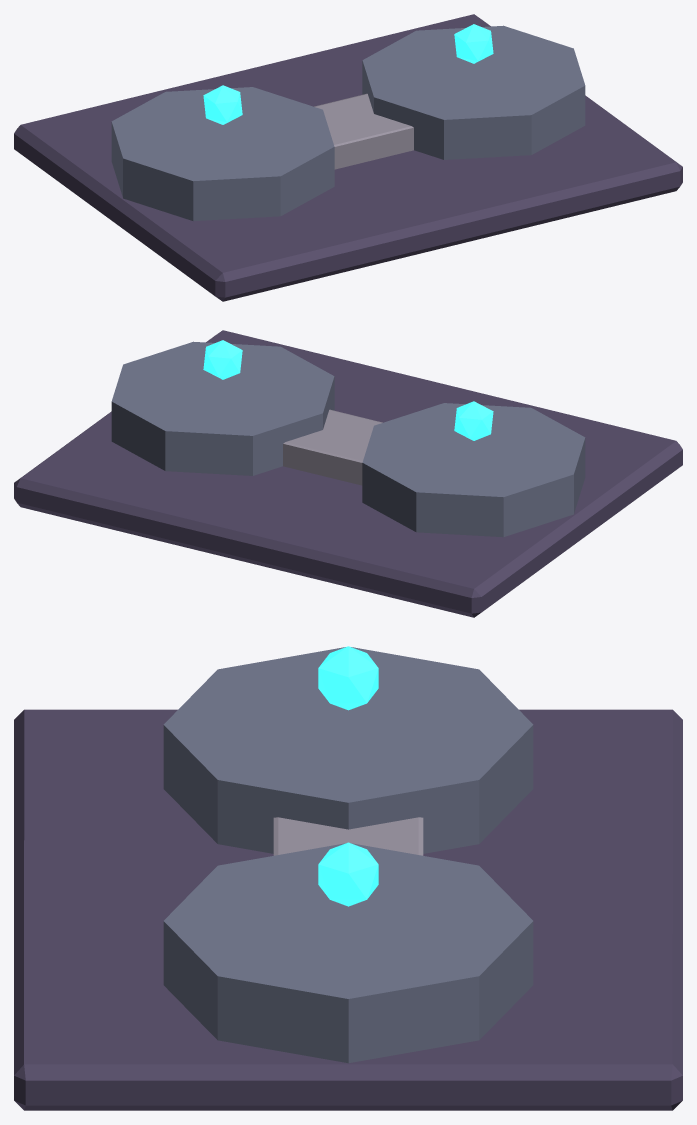
Rendered from veil-citadel.glb.
3 renders of one model, top to bottom at view 1: azimuth 30°, elevation 25°; view 2: azimuth 150°, elevation 25°; view 3: azimuth 270°, elevation 25°, orthographic. The views are drawn at different scales.
Visible parts, largest first — view 1: citadel-floor, citadel-plateau-0, citadel-plateau-1, citadel-spine, citadel-node-1, citadel-node-0; view 2: citadel-floor, citadel-plateau-0, citadel-plateau-1, citadel-spine, citadel-node-0, citadel-node-1; view 3: citadel-floor, citadel-plateau-1, citadel-plateau-0, citadel-spine, citadel-node-0, citadel-node-1.
Boxes of the visible parts, x1,y1,x2,y2 form: citadel-floor: [14, 14, 682, 301]; citadel-plateau-0: [111, 87, 334, 221]; citadel-plateau-1: [362, 25, 585, 159]; citadel-spine: [314, 93, 413, 169]; citadel-node-1: [454, 24, 493, 63]; citadel-node-0: [203, 85, 242, 124]; citadel-floor: [14, 330, 682, 617]; citadel-plateau-0: [362, 403, 585, 537]; citadel-plateau-1: [111, 341, 334, 475]; citadel-spine: [283, 409, 382, 485]; citadel-node-0: [454, 401, 493, 440]; citadel-node-1: [203, 340, 242, 379]; citadel-floor: [14, 709, 682, 1110]; citadel-plateau-1: [163, 843, 533, 1063]; citadel-plateau-0: [163, 647, 533, 853]; citadel-spine: [273, 817, 423, 855]; citadel-node-0: [318, 646, 378, 710]; citadel-node-1: [318, 842, 378, 906].
Bounding box in the file's own units: 4.4 × 1.06 × 3.4.
